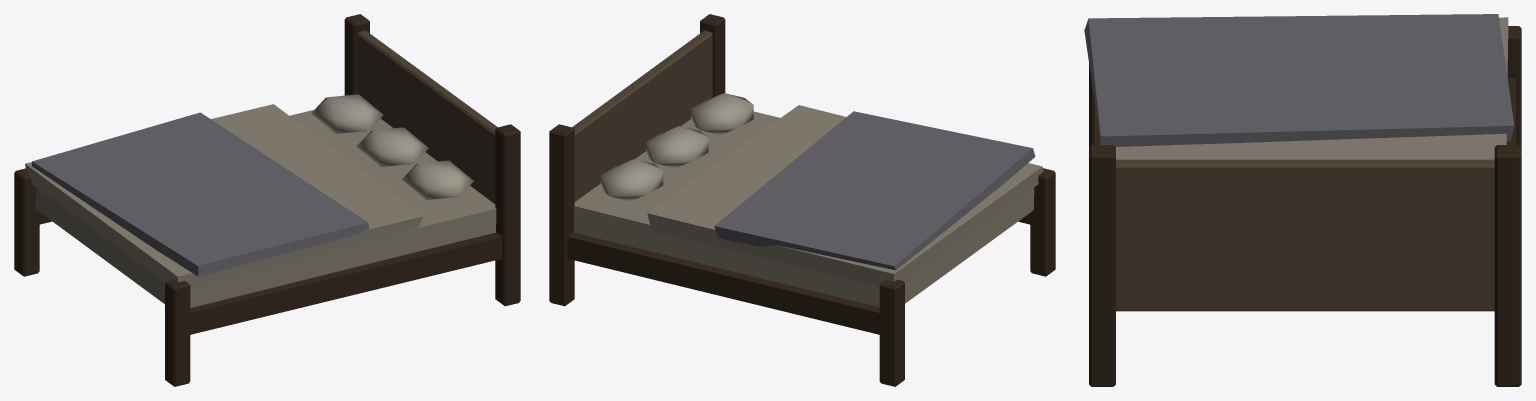
File: bed.glb
The picture shows the model from 3 angles, left to right: view 1: azimuth 30°, elevation 25°; view 2: azimuth 150°, elevation 25°; view 3: azimuth 270°, elevation 25°; orthographic projection. The views are drawn at different scales.
Parts seen in each view (by area): view 1: bed; view 2: bed; view 3: bed.
Boxes of the visible parts, x1,y1,x2,y2 form: bed: [14, 14, 520, 386]; bed: [549, 14, 1055, 386]; bed: [1084, 14, 1521, 386].
Size of what is drawn, in the model's own units: 2 by 0.95 by 1.62.
